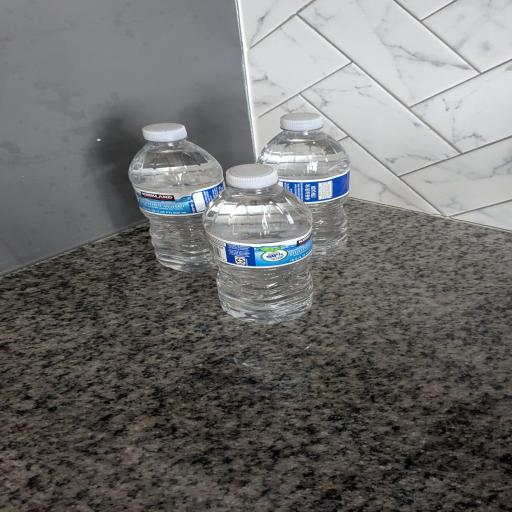waterbottle: (204, 165, 312, 323), (129, 124, 223, 271), (258, 113, 349, 258)
